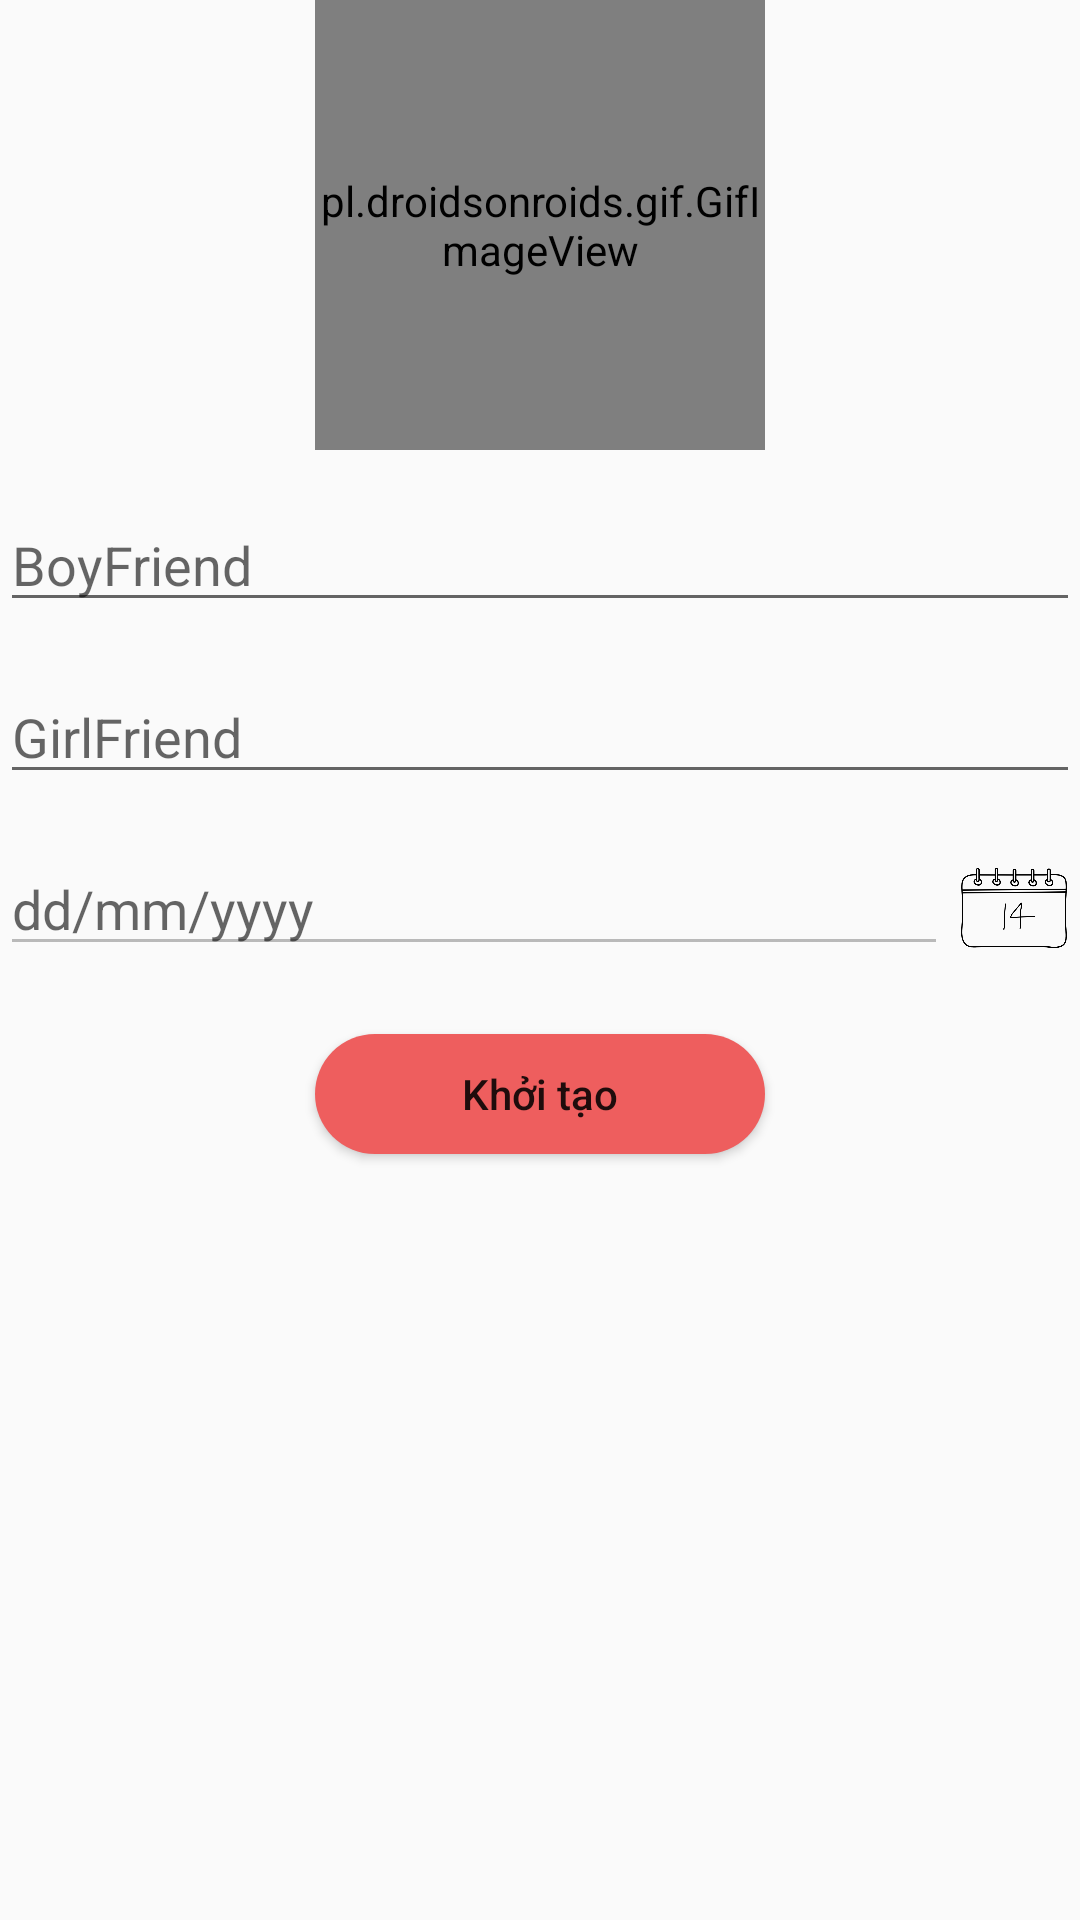

Icons on this 1080*1920 Android screen, each with the point to tap as point (x, y):
lich: point (1014, 908)
